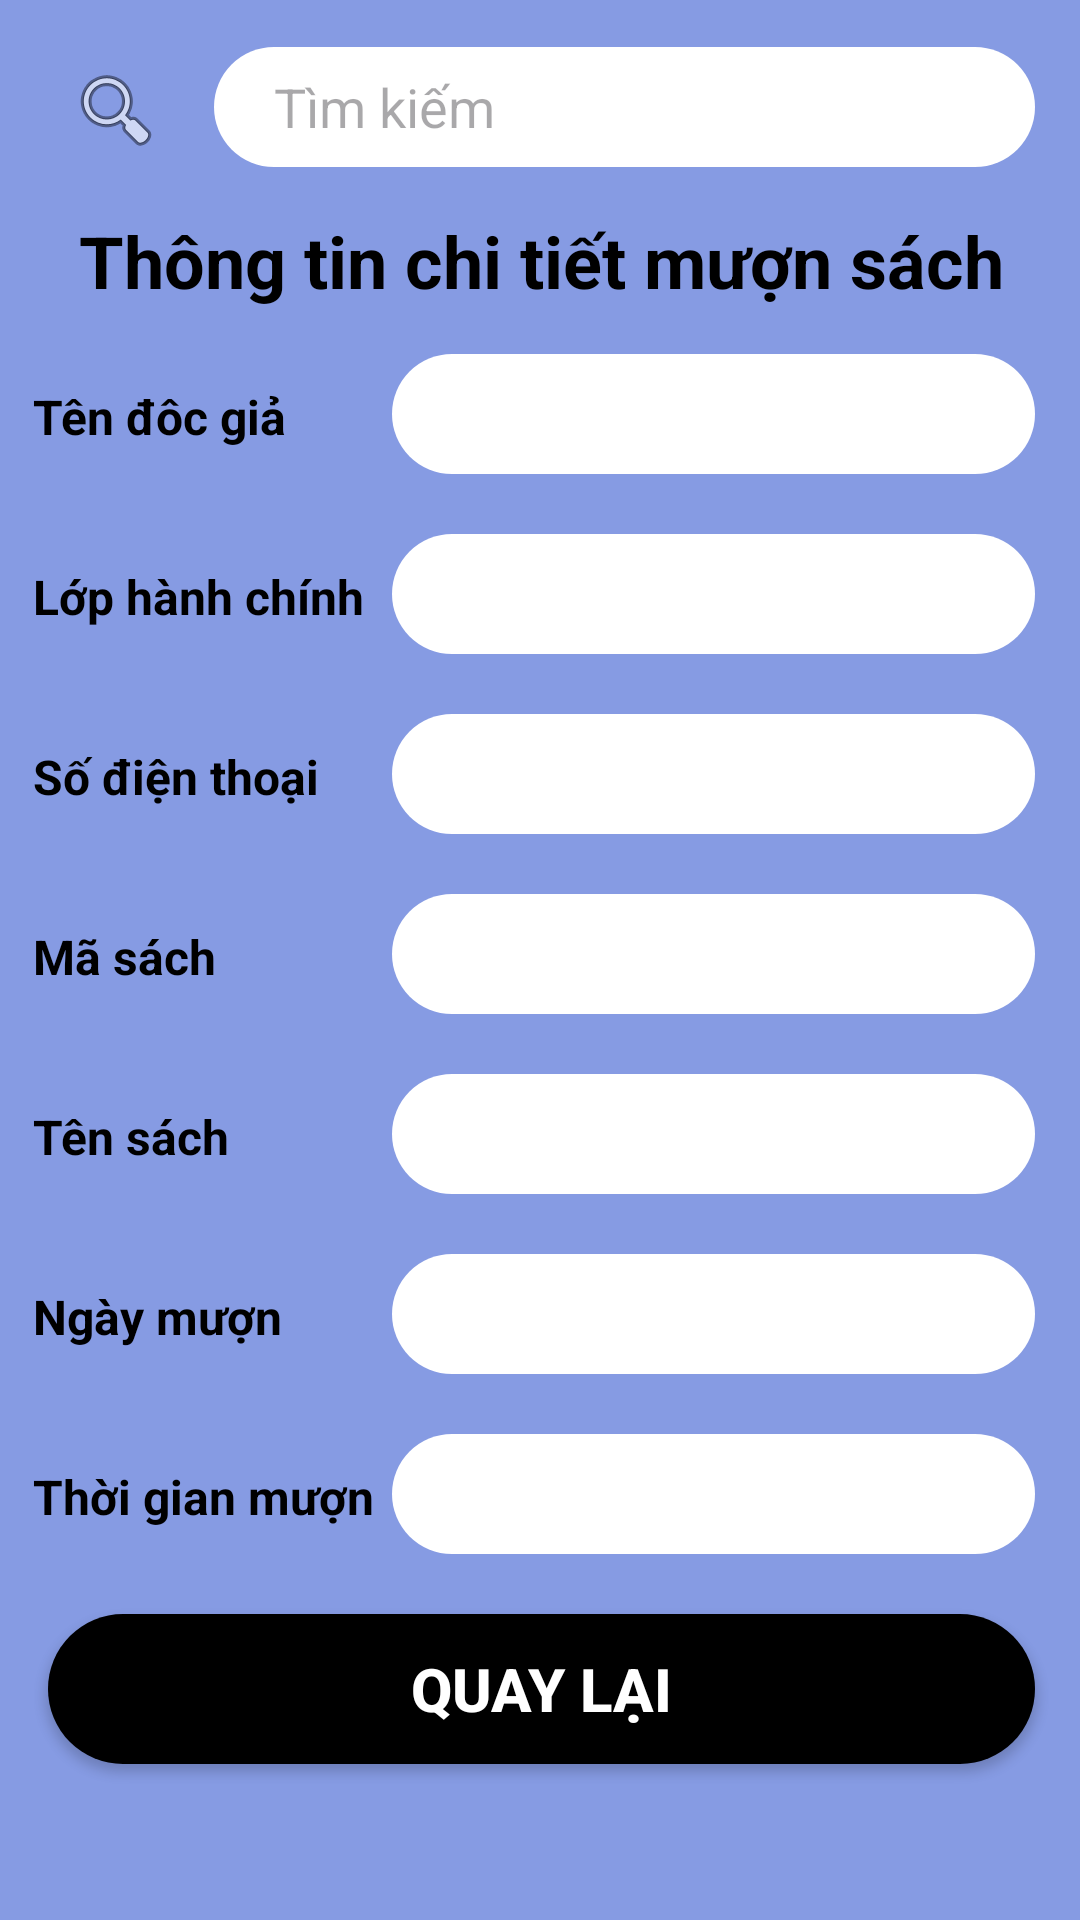

Icons on this 1080x1920 Android screen, each with its box as detection(x1, y1, x2, y2):
search: detection(80, 75, 152, 146)
